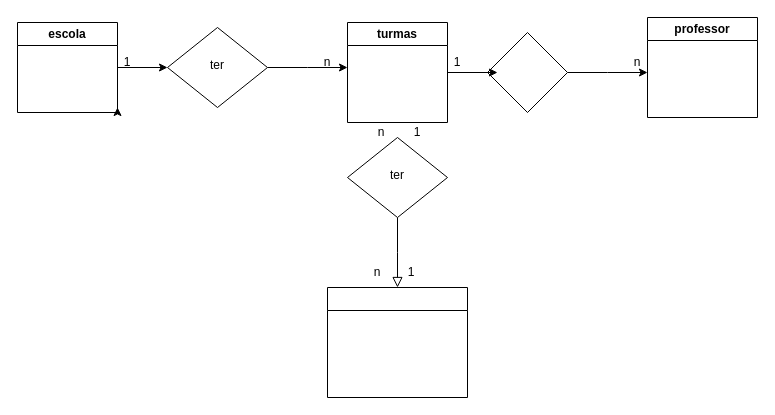
Image size: 775x415. Some labels were removed from this diagram. The centre of each missing label's shape, as x and y in pixels:
"ministrar" goes at [527,72].
"sala" goes at [397,342].
